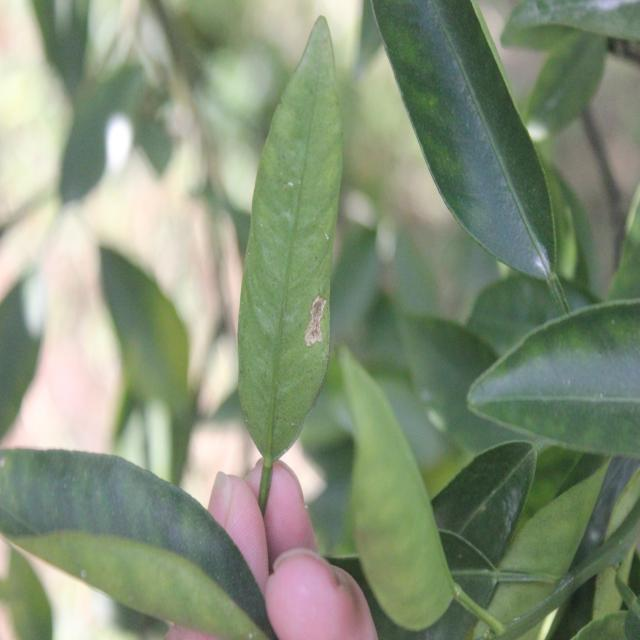canker: (288, 285, 330, 362)
